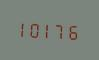one: (42, 19, 53, 40), (18, 18, 29, 38)
seven: (54, 20, 65, 40)
six: (66, 20, 77, 41)
zero: (30, 19, 41, 39)
